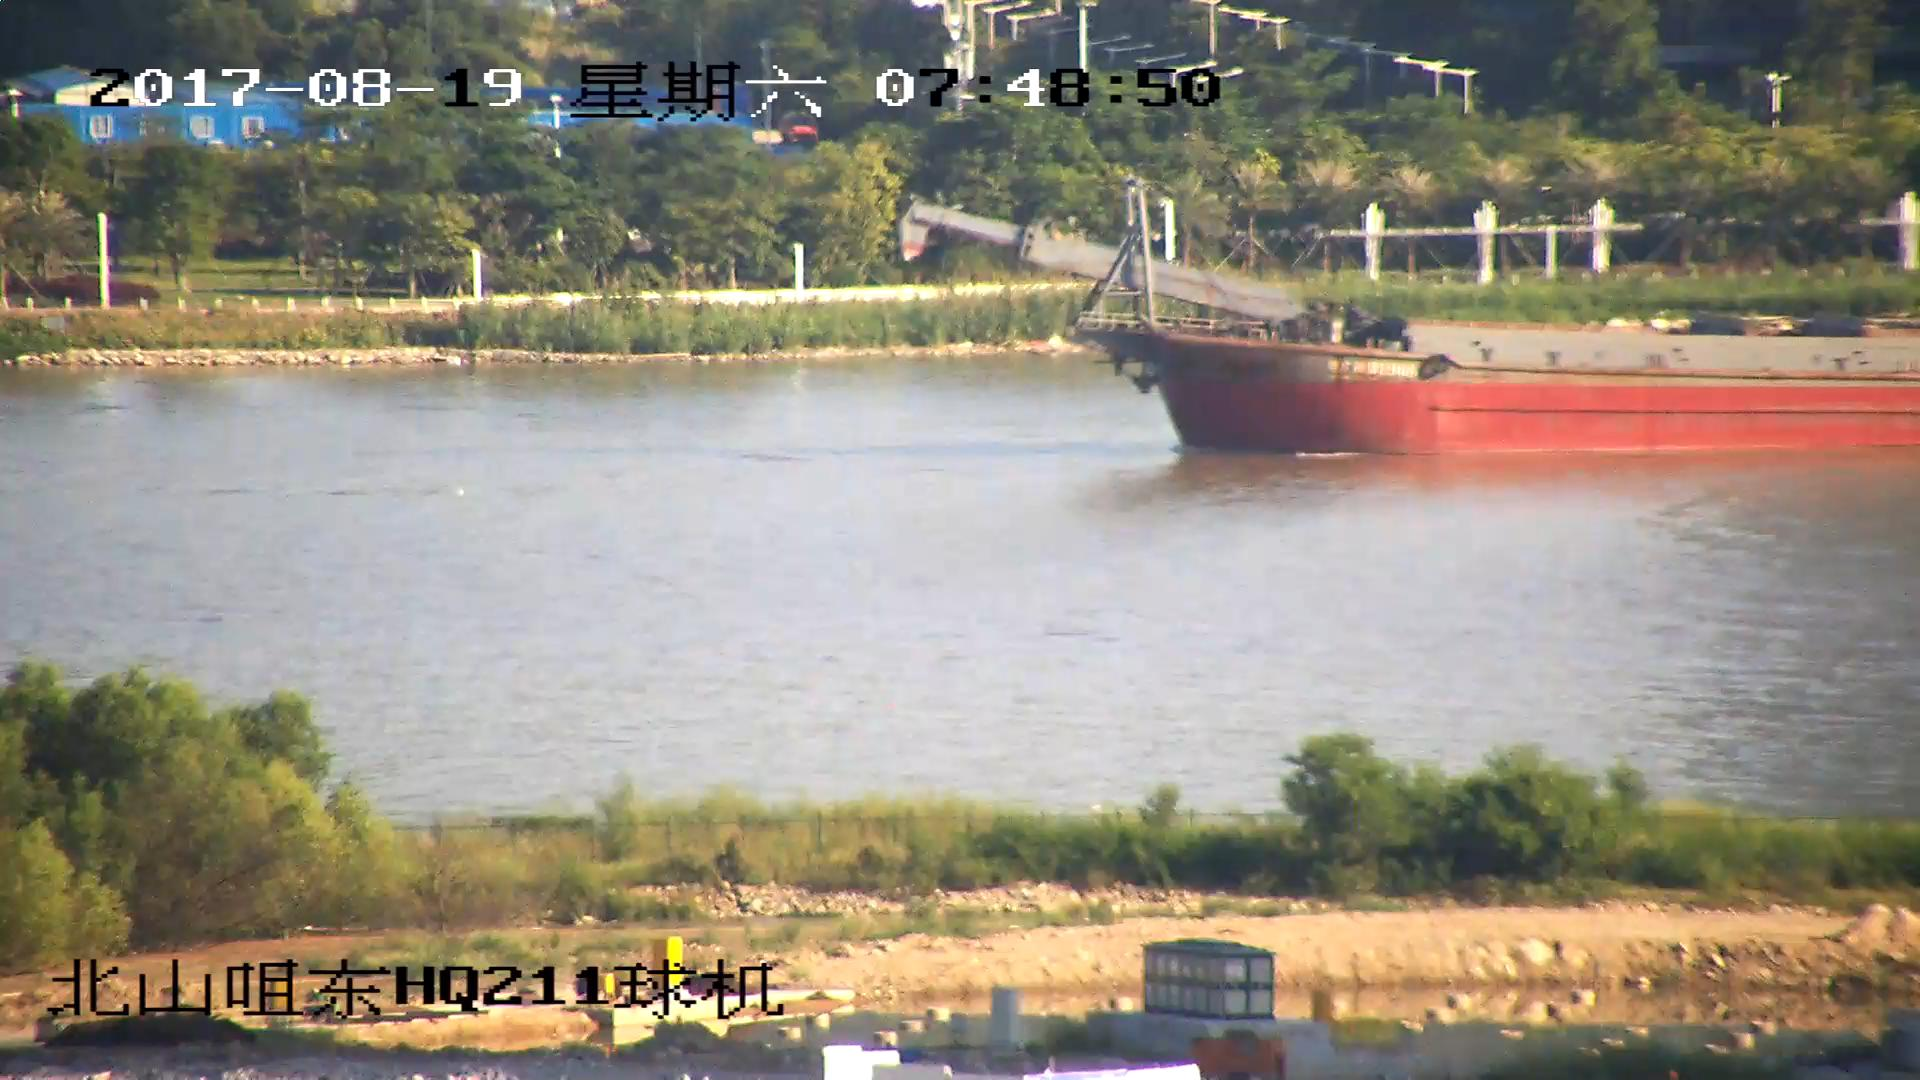bulk cargo carrier: (904, 193, 1920, 458)
